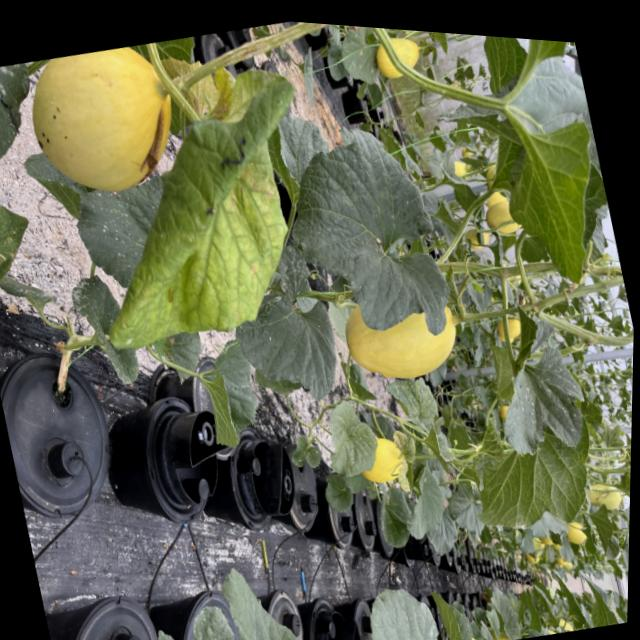downy mildew: (271, 115, 461, 364), (0, 192, 36, 286)
healthy: (488, 110, 626, 299), (216, 551, 323, 640), (191, 334, 268, 454), (348, 564, 461, 640), (467, 35, 537, 106), (183, 596, 247, 640)
powdery mildew: (217, 232, 347, 412), (474, 299, 593, 472), (65, 266, 143, 389), (77, 175, 162, 286), (0, 186, 47, 293), (0, 61, 40, 181), (0, 266, 60, 319)
